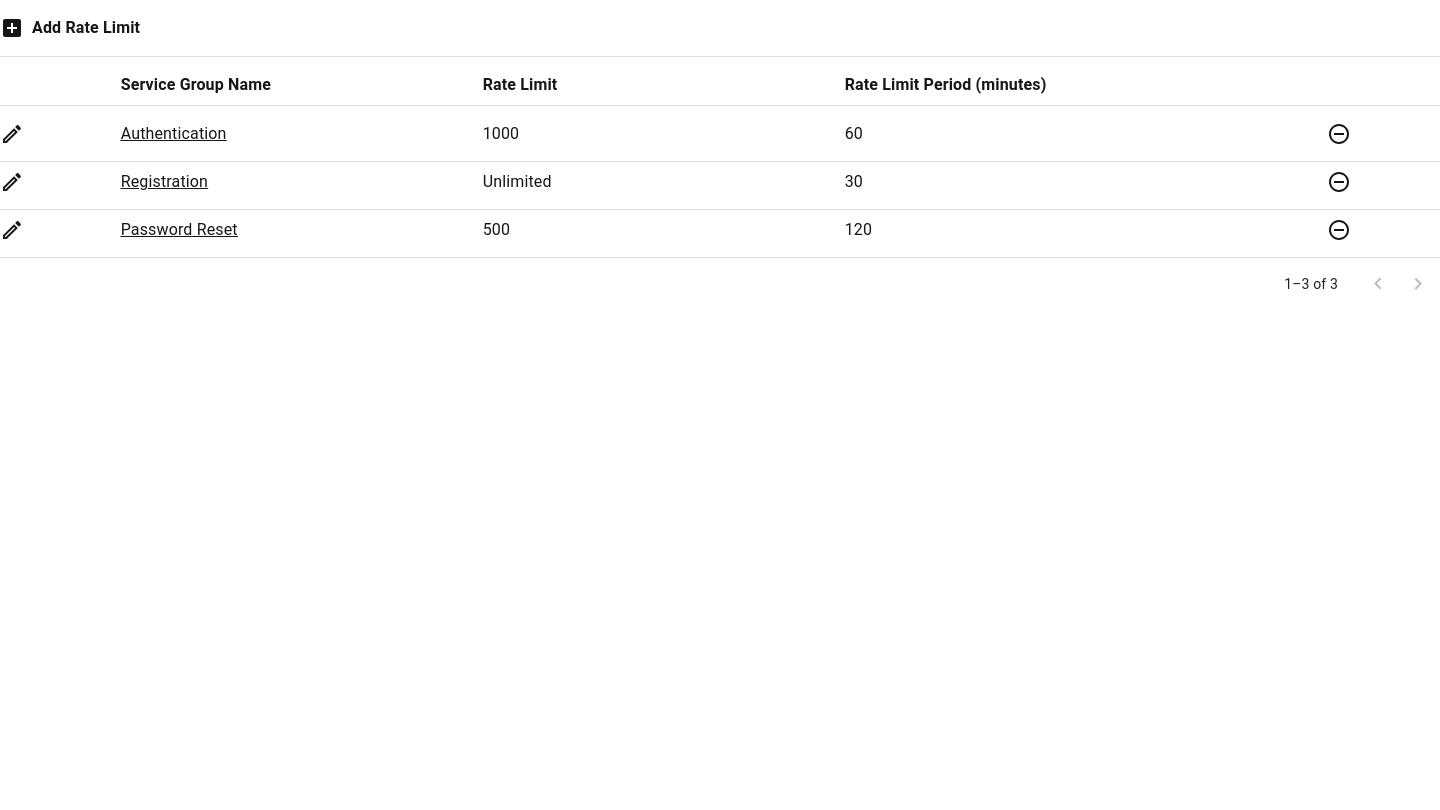
Test: TenantRateLimitConfiguration › Remove Confirmation Dialog › should close dialog when Cancel is clicked
The image size is (1440, 810).
Click the 1st icon with test id "RemoveCircleOutlineIcon".
click(1339, 134)  # box [1327,122,1351,146]
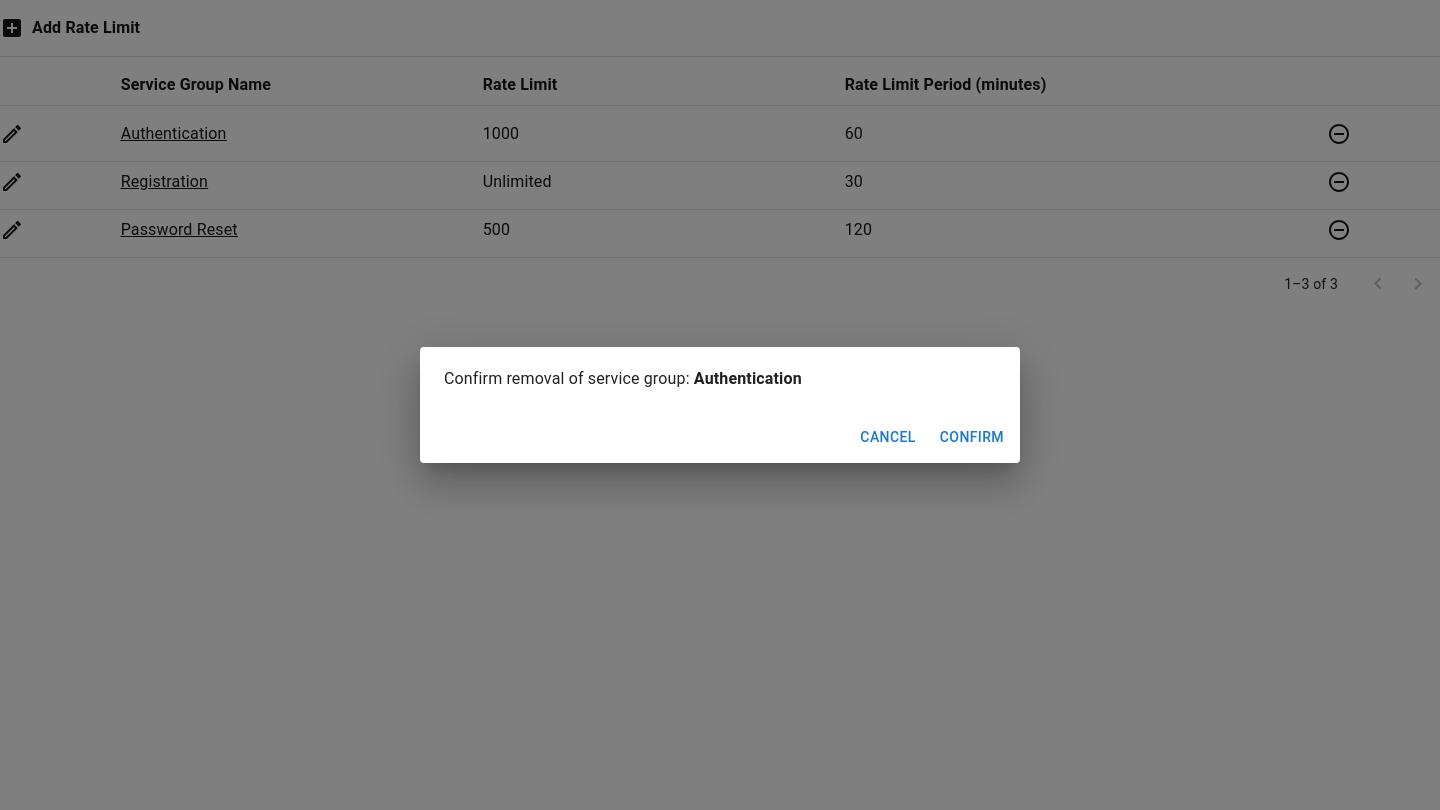
Expected: the text "Confirm removal of service group:" is shown, [444,369,694,388]
Click the button "Cancel".
click(888, 437)  # box [852,419,924,455]
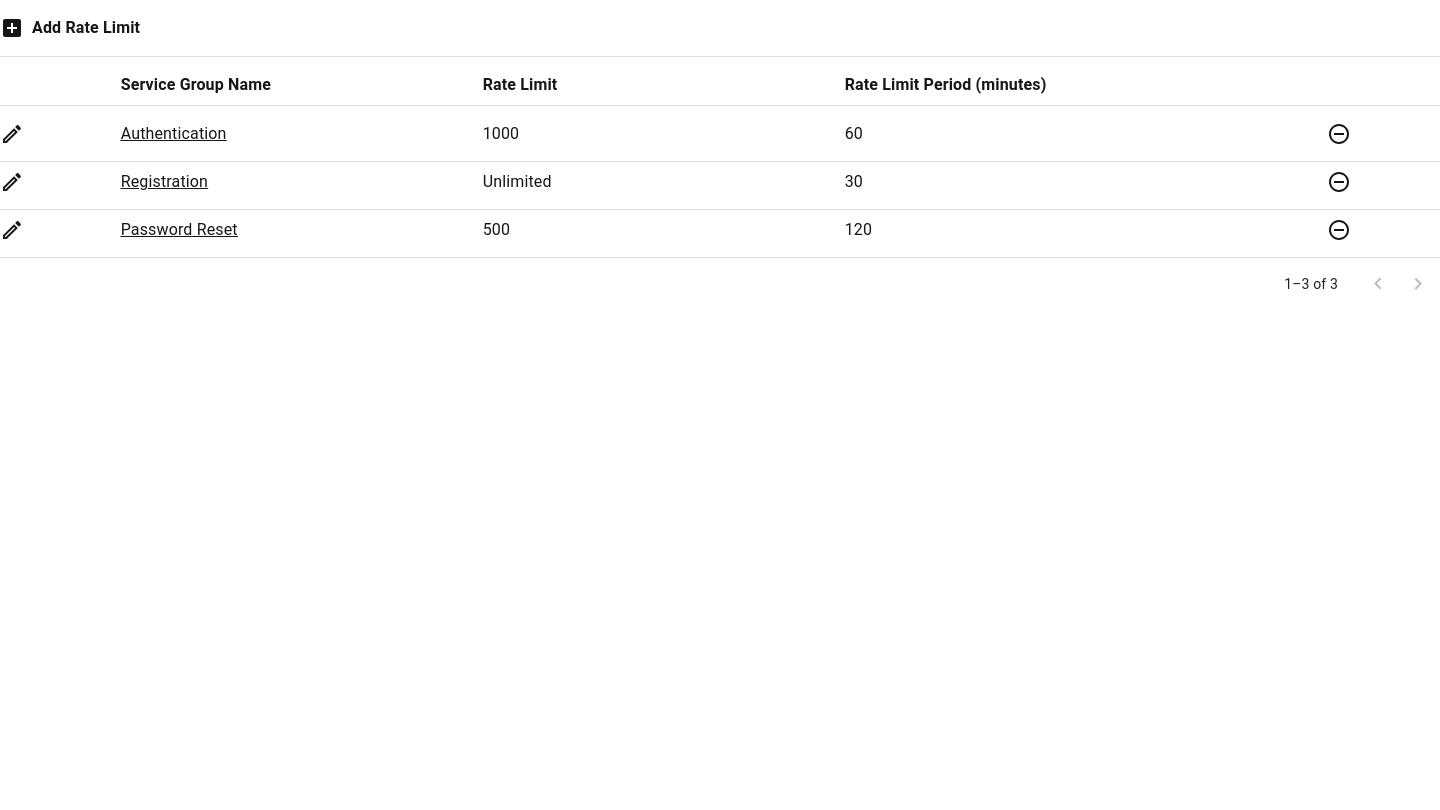
Expected: the text "Confirm removal" is gone
